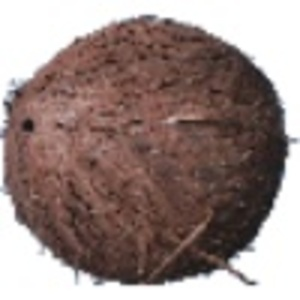coco: (1, 15, 300, 288)
